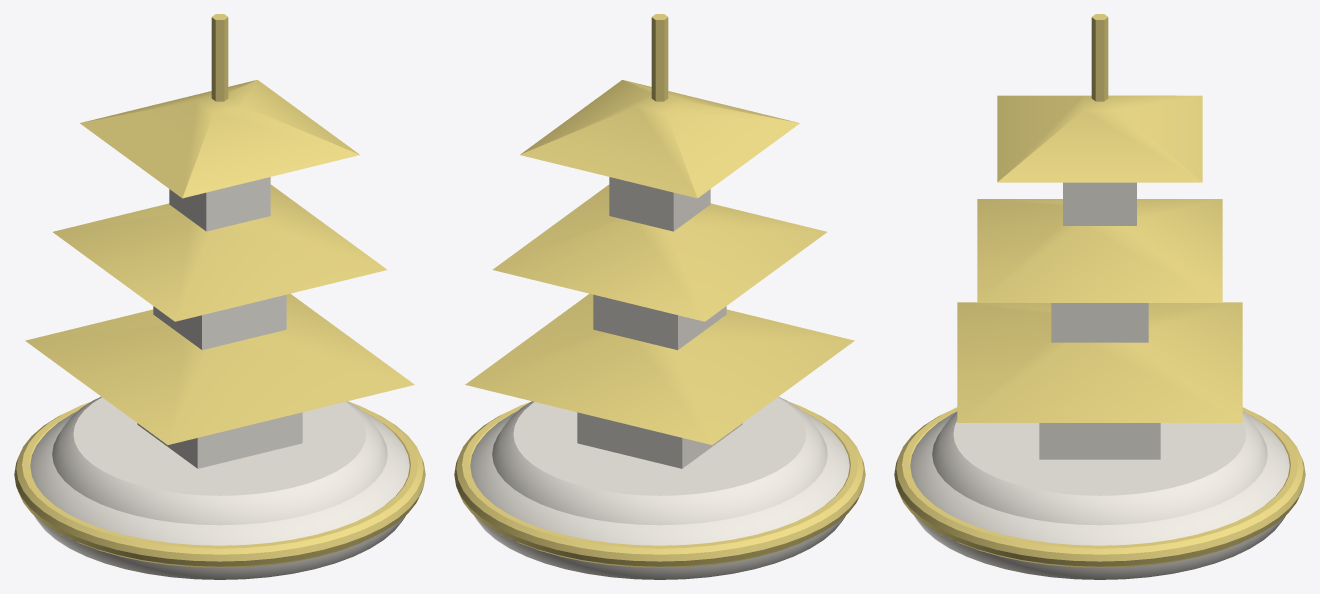
Rendered from Kioto_Torre.fbx.
3 views of the same model, side by side, from view 1: azimuth 30°, elevation 25°; view 2: azimuth 150°, elevation 25°; view 3: azimuth 270°, elevation 25° (orthographic).
Parts seen in each view (by area): view 1: Kioto_Torre; view 2: Kioto_Torre; view 3: Kioto_Torre.
Boxes of the visible parts, x1,y1,x2,y2 form: Kioto_Torre: [14, 14, 425, 579]; Kioto_Torre: [454, 14, 865, 579]; Kioto_Torre: [894, 14, 1305, 579].
Bounding box in the file's own units: 0.7335 × 0.95 × 0.7335.
